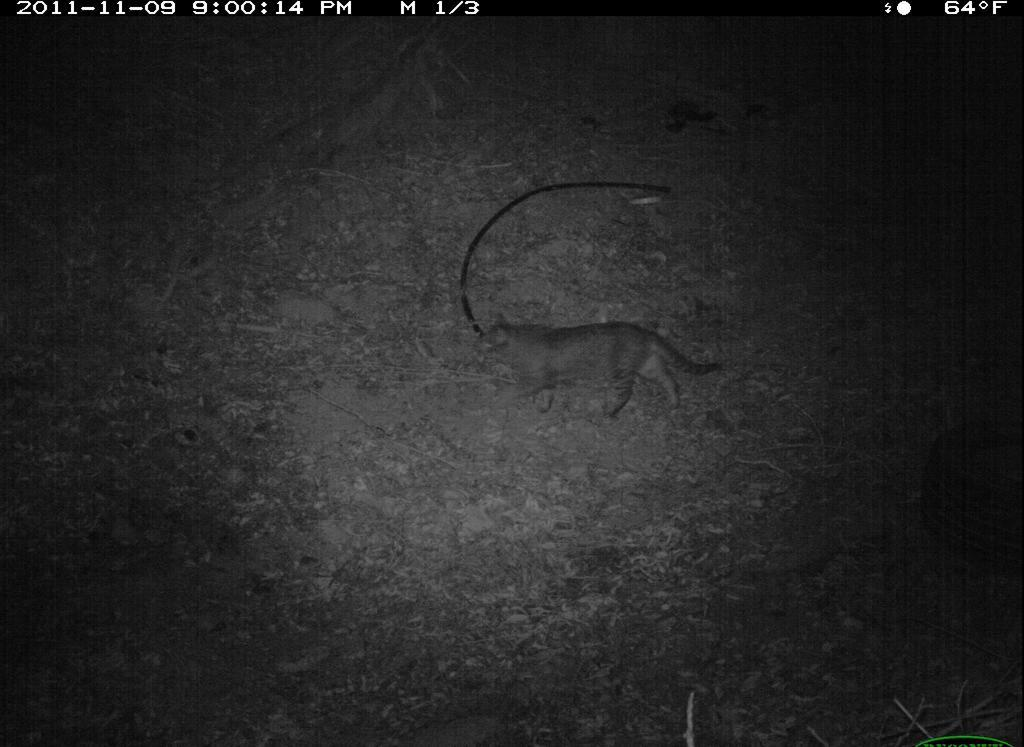cat: (463, 309, 733, 423)
